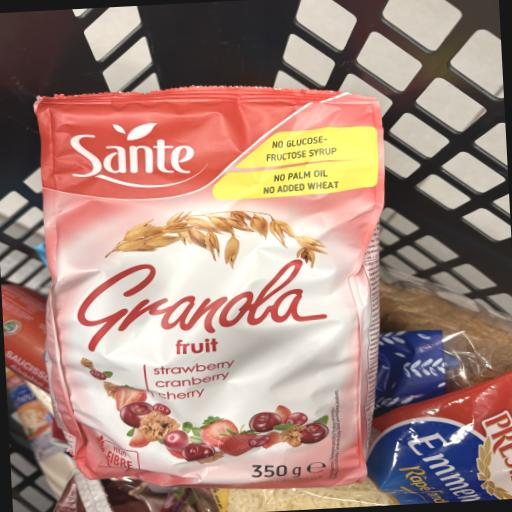granola: (0, 56, 432, 512)
